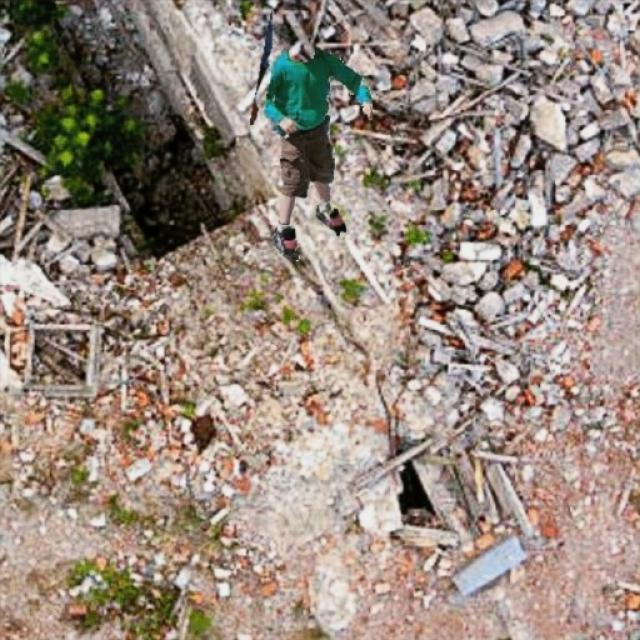Person in Rubble: (250, 11, 371, 260)
